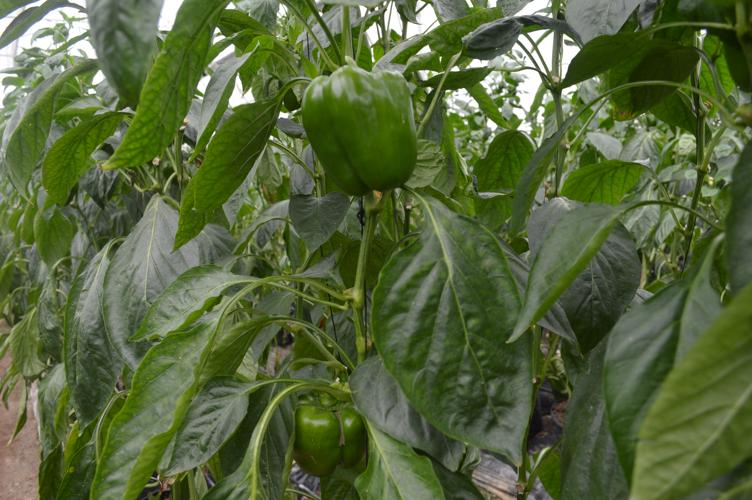BellPepper: (297, 64, 419, 197), (273, 385, 377, 492)
